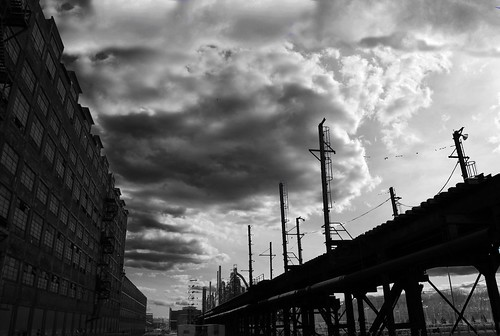building: (1, 14, 142, 331)
sky: (103, 1, 500, 276)
